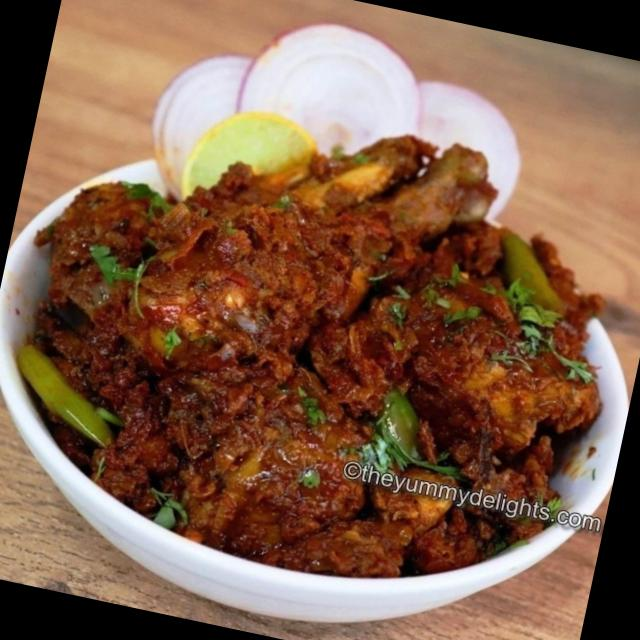chicken: (19, 101, 632, 594)
